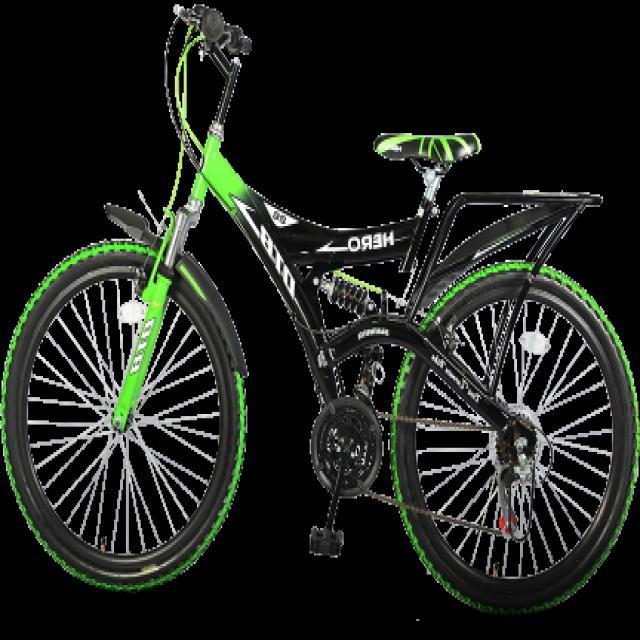bicycle: (0, 5, 640, 612)
